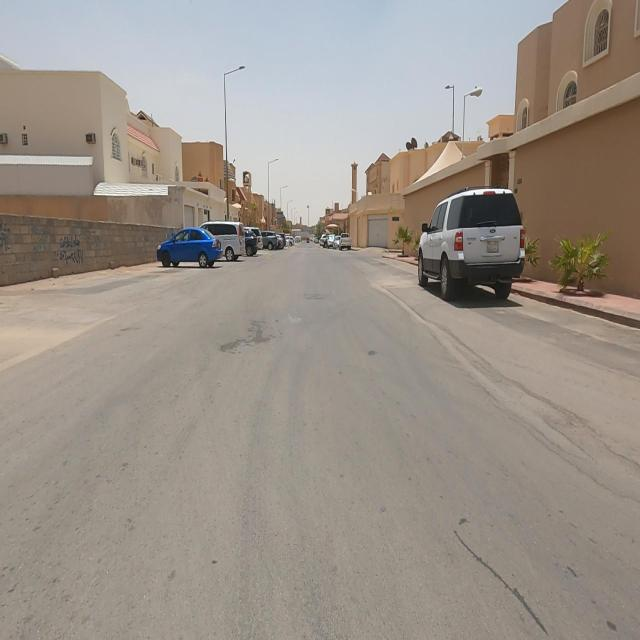Graffiti: (55, 235, 84, 267), (1, 220, 10, 255)
